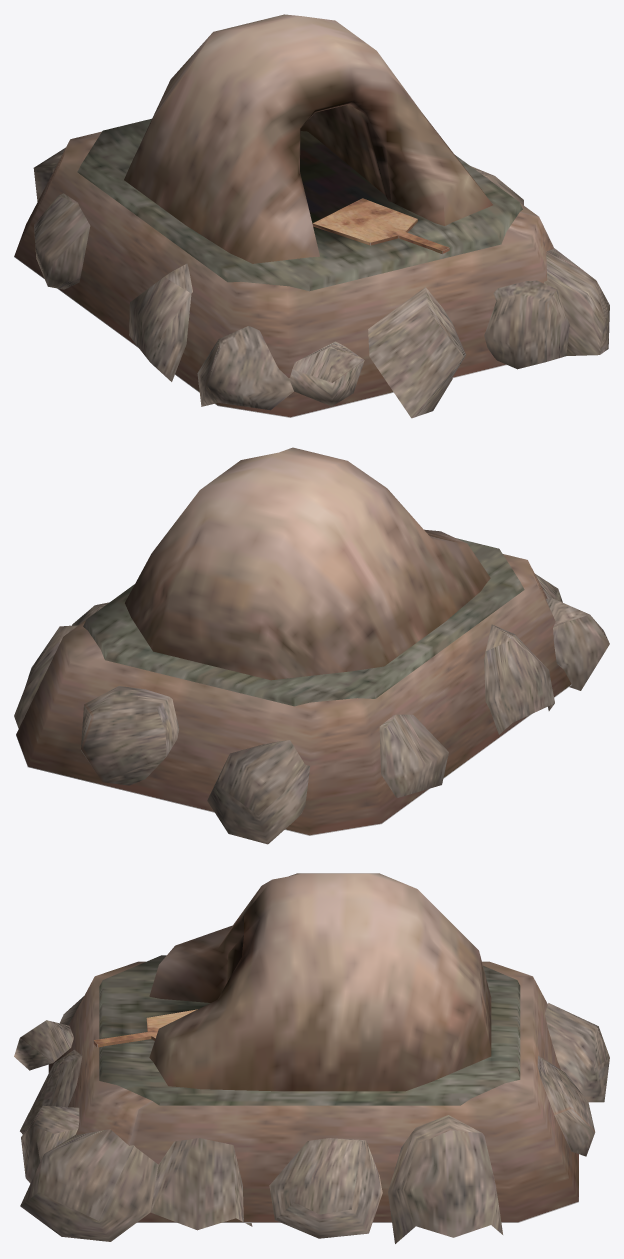
The model's file is thm_dant_mud_oven_l2.fbx.
3 renders of one model, top to bottom at view 1: azimuth 30°, elevation 25°; view 2: azimuth 150°, elevation 25°; view 3: azimuth 270°, elevation 25°, orthographic.
Visible parts, largest first — view 1: mesh_node; view 2: mesh_node; view 3: mesh_node.
Part boxes in pixels (x1,y1,x2,y2): mesh_node: [14, 14, 609, 418]; mesh_node: [14, 447, 609, 844]; mesh_node: [14, 873, 609, 1243].
Size of the model in its own units: 4.23 by 2.55 by 5.05.
Materials: 1 (1 with a texture image).
